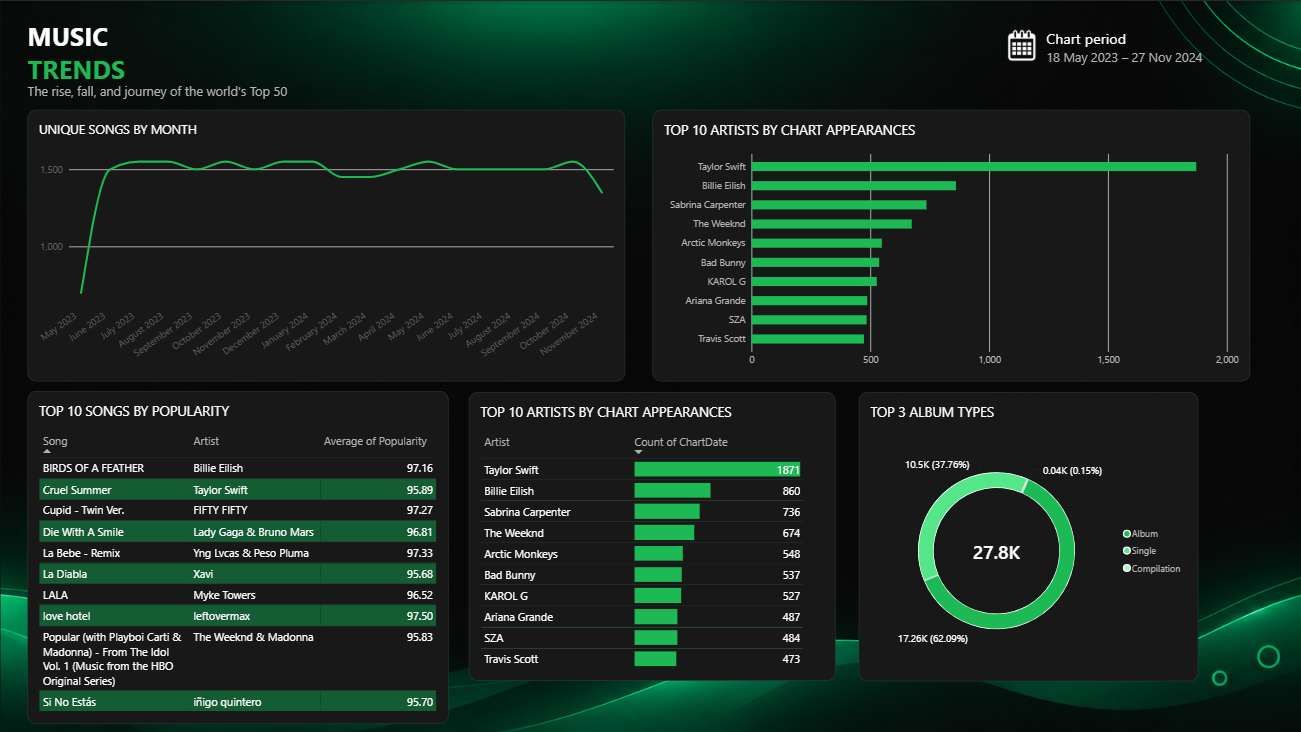

The dashboard page shown, as its layout file describes it:
{"tool":"powerbi","page":{"name":"Music Trends","canvas":[1920,1080],"ordinal":1},"visuals":[{"type":"image","box":[0,0,1920.4,1079.6],"z":0},{"type":"textbox","box":[40,25,650,100],"z":1000},{"type":"textbox","box":[40,120,650,30],"z":2000},{"type":"image","box":[1480,40,49.7,49.7],"z":3000},{"type":"textbox","box":[1540,40,200,30],"z":4000},{"type":"textbox","box":[1540,70,250,30],"z":5000},{"type":"lineChart","title":"UNIQUE SONGS BY MONTH","fields":{"Category":["DimDate.MonthYear"],"Y":["CountNonNull(FactSpotifyChart.Song)"]},"box":[40,160,880,400],"z":6000},{"type":"clusteredBarChart","title":"TOP 10 ARTISTS BY CHART APPEARANCES","fields":{"Category":["FactSpotifyChart.Artist"],"Y":["CountNonNull(FactSpotifyChart.ChartDate)"]},"box":[960,160,880,400],"z":7000},{"type":"tableEx","title":"TOP 10 SONGS BY POPULARITY","fields":{"Values":["FactSpotifyChart.Song","FactSpotifyChart.Artist","Avg(FactSpotifyChart.Popularity)"]},"box":[40.5,575,620,490],"z":8000},{"type":"tableEx","title":"TOP 10 ARTISTS BY CHART APPEARANCES","fields":{"Values":["FactSpotifyChart.Artist","FactSpotifyChart.ChartDate"]},"box":[690.7,575.9,540,425],"z":9000},{"type":"donutChart","title":"TOP 3 ALBUM TYPES","fields":{"Category":["FactSpotifyChart.AlbumType_Display"],"Y":["CountNonNull(FactSpotifyChart.ChartDate)"]},"box":[1264.8,575.9,500,425.9],"z":10000}]}

Visuals, with their boxes in screenshot pixels (x1, y1, x2, y2), scaled from the page's 1920x1080 canvas onto the 1301x732 screenshot:
image: 0, 0, 1300, 731
textbox: 27, 17, 468, 85
textbox: 27, 81, 468, 102
image: 1003, 27, 1037, 61
textbox: 1044, 27, 1179, 47
textbox: 1044, 47, 1213, 68
"UNIQUE SONGS BY MONTH" lineChart: 27, 108, 623, 380
"TOP 10 ARTISTS BY CHART APPEARANCES" clusteredBarChart: 650, 108, 1247, 380
"TOP 10 SONGS BY POPULARITY" tableEx: 27, 390, 448, 722
"TOP 10 ARTISTS BY CHART APPEARANCES" tableEx: 468, 390, 834, 678
"TOP 3 ALBUM TYPES" donutChart: 857, 390, 1196, 679
